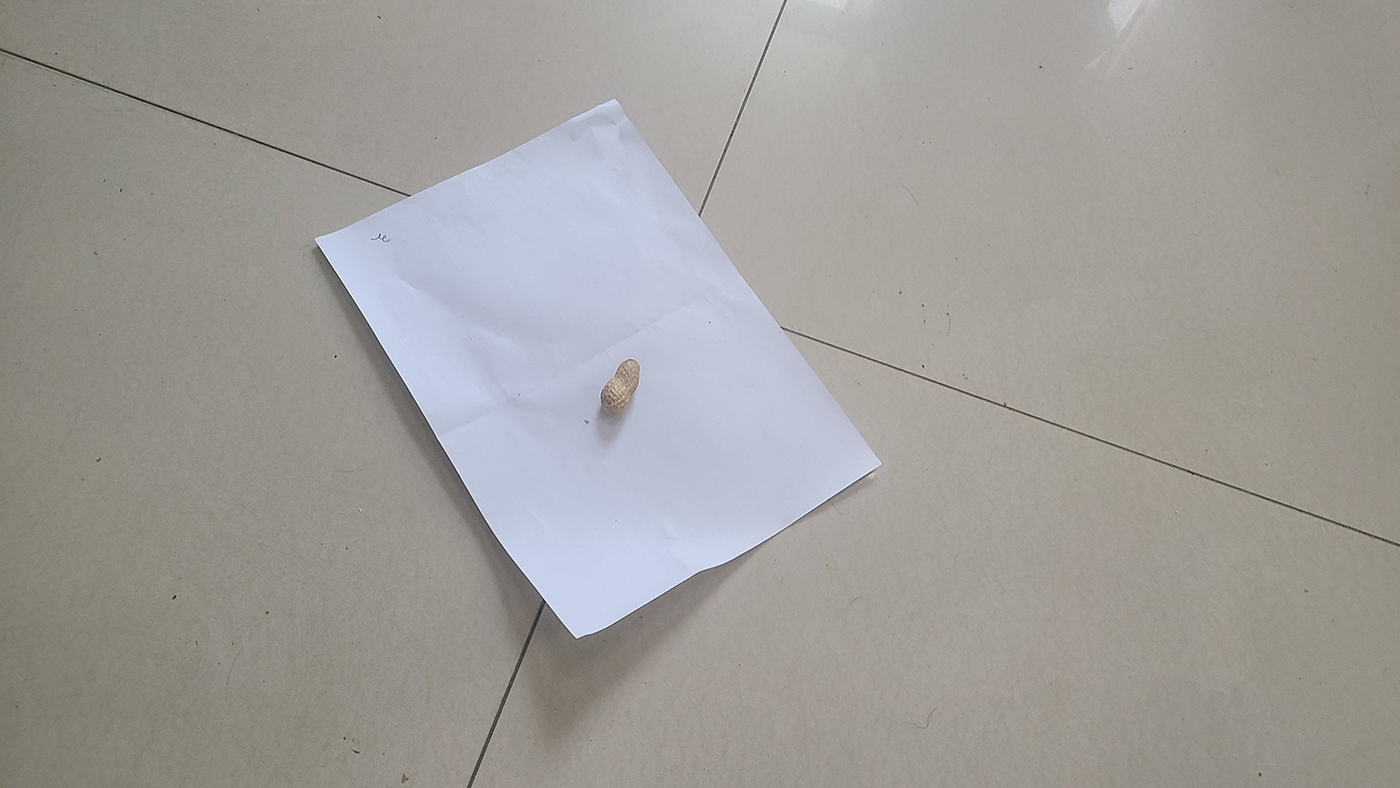h: (600, 358, 641, 415)
